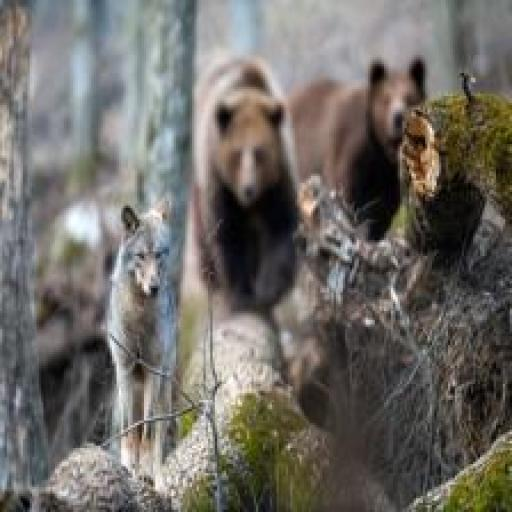wolf: (80, 167, 186, 481)
